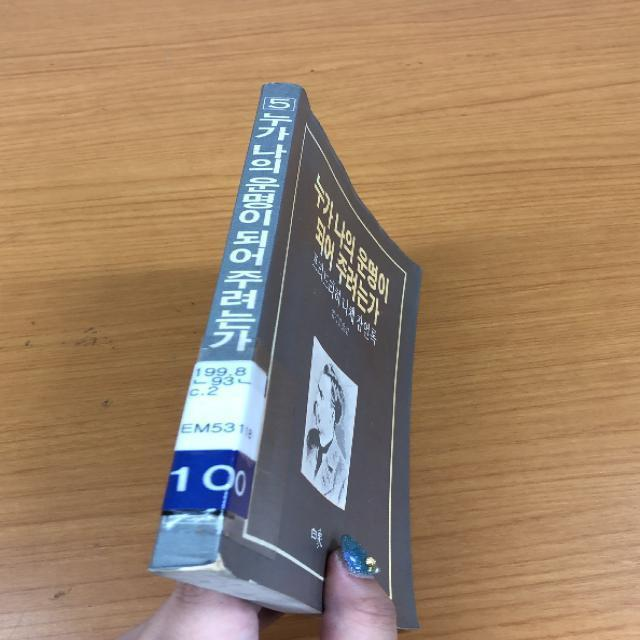Ripped: (142, 550, 232, 574)
Wornout: (257, 78, 311, 93), (245, 577, 263, 588)
